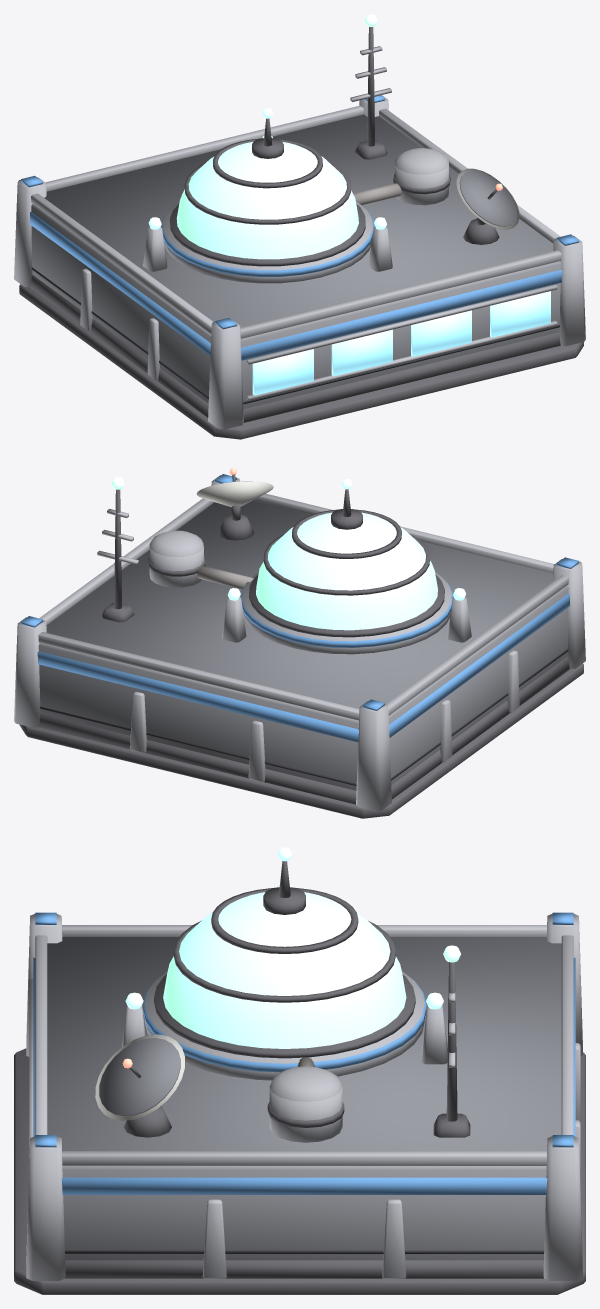
Rendered from tech_lab.glb.
3 renders of one model, top to bottom at view 1: azimuth 30°, elevation 25°; view 2: azimuth 150°, elevation 25°; view 3: azimuth 270°, elevation 25°, orthographic. The views are drawn at different scales.
Parts seen in each view (by area): view 1: body; view 2: body; view 3: body.
Boxes of the visible parts, bbox=[...] form: body: bbox=[14, 14, 585, 439]; body: bbox=[14, 468, 585, 818]; body: bbox=[14, 847, 585, 1294].
Size of the model in its own units: 1.88 by 1.13 by 1.88.
